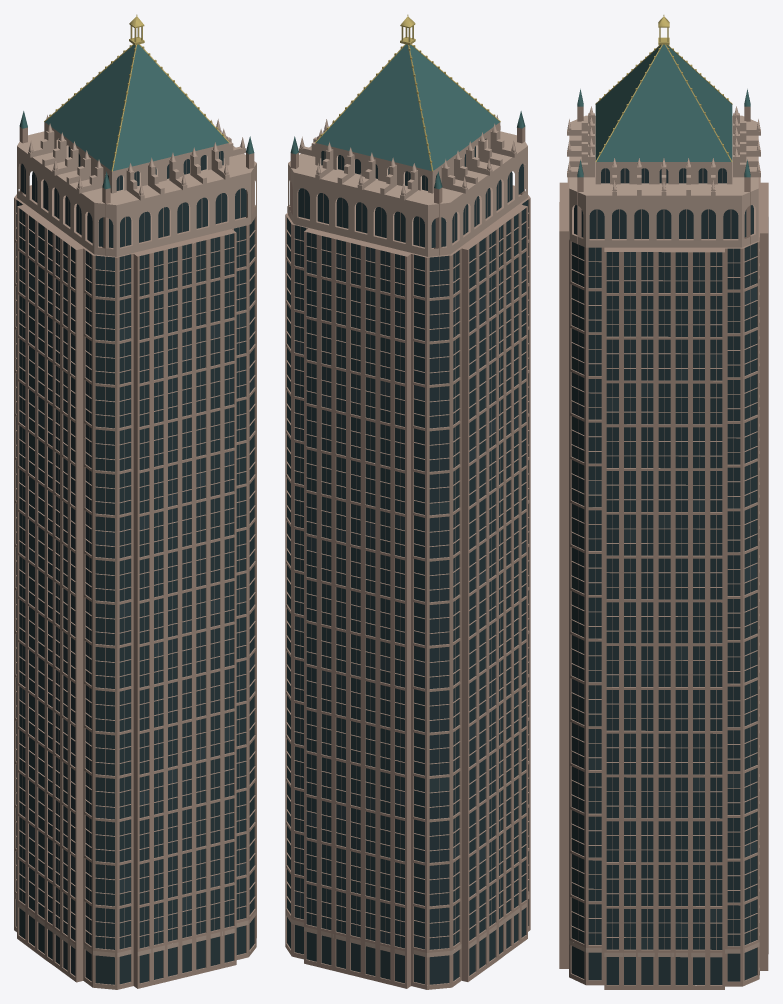
File: one-atlantic-center-near.glb
3 views of the same model, side by side, from view 1: azimuth 30°, elevation 25°; view 2: azimuth 150°, elevation 25°; view 3: azimuth 270°, elevation 25° (orthographic).
Parts seen in each view (by area): view 1: one-atlantic-center-0-glass, one-atlantic-center-0-stone, one-atlantic-center-0-trim, one-atlantic-center-0-copper, one-atlantic-center-0-light, one-atlantic-center-0-glow; view 2: one-atlantic-center-0-glass, one-atlantic-center-0-stone, one-atlantic-center-0-trim, one-atlantic-center-0-copper, one-atlantic-center-0-light, one-atlantic-center-0-glow; view 3: one-atlantic-center-0-glass, one-atlantic-center-0-stone, one-atlantic-center-0-trim, one-atlantic-center-0-copper, one-atlantic-center-0-light, one-atlantic-center-0-glow.
Boxes of the visible parts, left/top/right/bottom form: one-atlantic-center-0-glass: left=16, top=139, right=254, bottom=984; one-atlantic-center-0-stone: left=14, top=127, right=256, bottom=989; one-atlantic-center-0-trim: left=14, top=101, right=256, bottom=957; one-atlantic-center-0-copper: left=19, top=44, right=254, bottom=189; one-atlantic-center-0-light: left=16, top=243, right=254, bottom=932; one-atlantic-center-0-glow: left=44, top=14, right=229, bottom=171; one-atlantic-center-0-glass: left=287, top=139, right=528, bottom=984; one-atlantic-center-0-stone: left=285, top=127, right=530, bottom=989; one-atlantic-center-0-trim: left=286, top=101, right=529, bottom=957; one-atlantic-center-0-copper: left=290, top=44, right=525, bottom=189; one-atlantic-center-0-light: left=287, top=246, right=528, bottom=949; one-atlantic-center-0-glow: left=315, top=14, right=500, bottom=171; one-atlantic-center-0-glass: left=571, top=168, right=757, bottom=984; one-atlantic-center-0-stone: left=559, top=106, right=768, bottom=989; one-atlantic-center-0-trim: left=567, top=106, right=760, bottom=957; one-atlantic-center-0-copper: left=577, top=44, right=750, bottom=177; one-atlantic-center-0-light: left=571, top=252, right=757, bottom=949; one-atlantic-center-0-glow: left=595, top=15, right=732, bottom=161.
Bounding box in the file's own units: 51.23 × 250 × 50.95.
